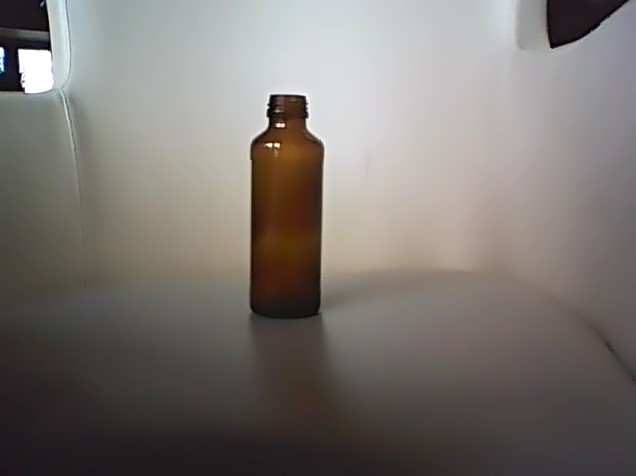Glass: (244, 90, 327, 324)
